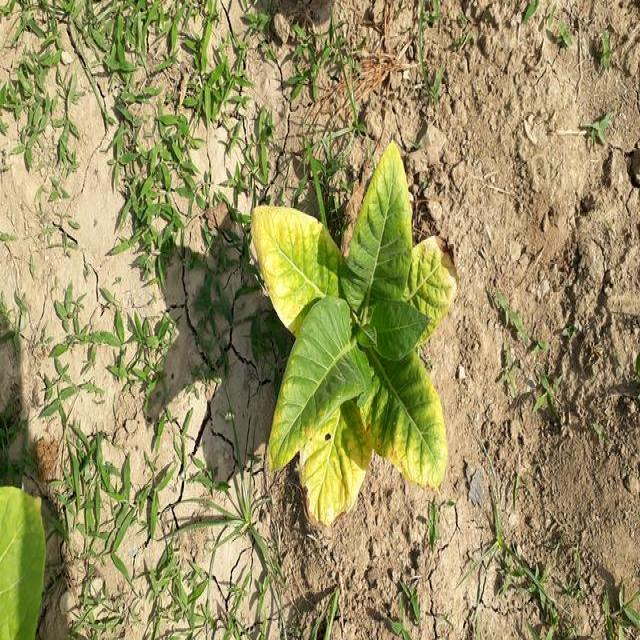crop: (244, 144, 454, 528), (0, 472, 54, 639)
